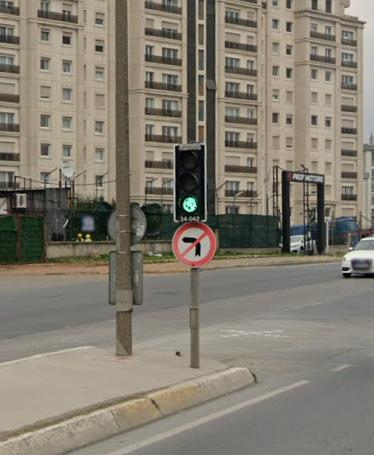greenlight: (174, 146, 208, 217)
leftturnsareforbidden: (173, 220, 216, 268)
